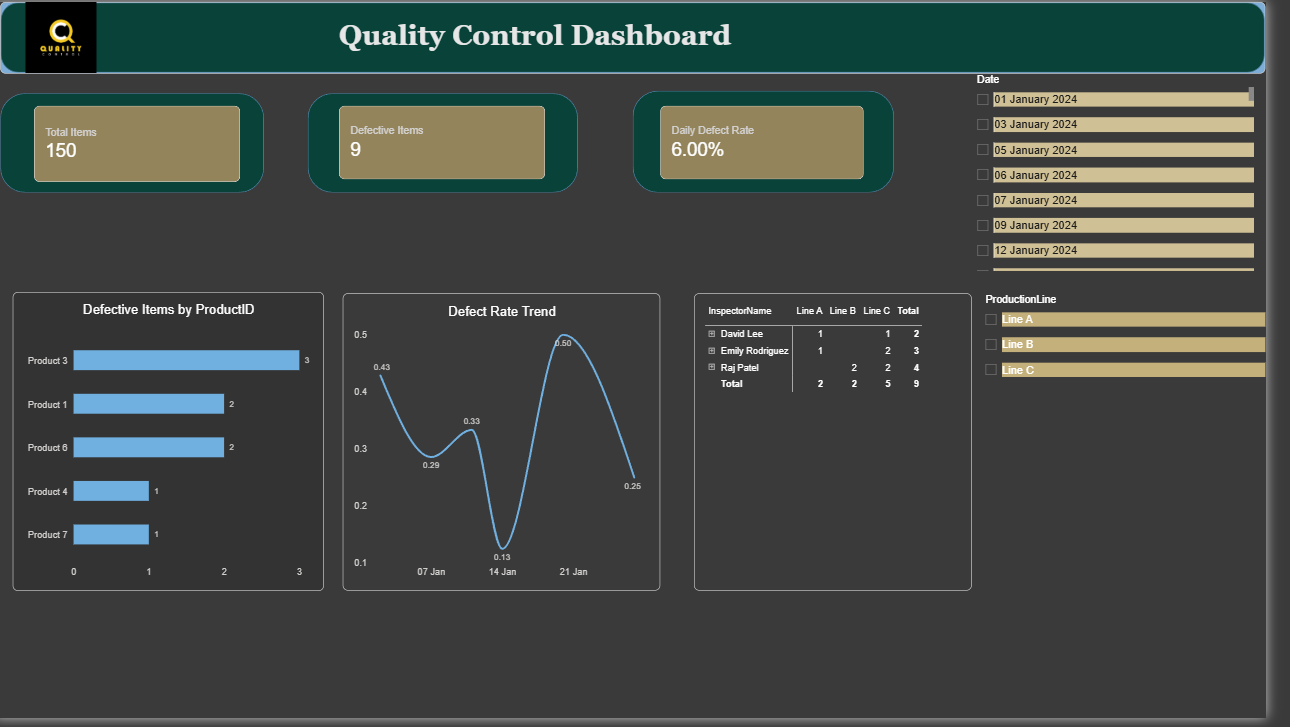

This screenshot's page, from the dashboard's own definition file:
{"tool":"powerbi","page":{"name":"Page 2","canvas":[1920,1080],"ordinal":1},"visuals":[{"type":"textbox","box":[9.6,0,1892.3,107.7],"z":0},{"type":"shape","box":[9.6,0,1909.6,107.7],"z":1000},{"type":"textbox","box":[520.8,26.4,645.3,54.7],"z":2000},{"type":"shape","box":[9.6,138.5,398.1,150],"z":3000},{"type":"shape","box":[964.2,134,394.2,153.8],"z":4000},{"type":"shape","box":[473.6,137.7,407.7,150],"z":5000},{"type":"cardVisual","fields":{"Data":["production_data.Total Items"]},"box":[59.6,155.8,311.5,115.4],"z":6000},{"type":"cardVisual","fields":{"Data":["production_data.Defective Items"]},"box":[520.8,156.6,311.5,111.5],"z":7000},{"type":"cardVisual","fields":{"Data":["production_data.Daily Defect Rate"]},"box":[1005.7,156.6,307.7,111.5],"z":8000},{"type":"slicer","fields":{"Values":["production_data.Date"]},"box":[1475,107.1,426.4,298.1],"z":9000},{"type":"slicer","fields":{"Values":["batches_data.ProductionLine"]},"box":[1488.7,439.6,430.2,449.1],"z":10000},{"type":"clusteredBarChart","fields":{"Category":["production_data.ProductID"],"Y":["production_data.Defective Items"]},"box":[28.3,437.7,469.8,450.9],"z":11000},{"type":"lineChart","title":" Defect Rate Trend","fields":{"Category":["production_data.Date.Variation.Date Hierarchy.Year","production_data.Date.Variation.Date Hierarchy.Day"],"Y":["production_data.Overall Defect Rate"]},"box":[526.4,439.6,479.2,449.1],"z":12000},{"type":"pivotTable","fields":{"Columns":["batches_data.ProductionLine"],"Rows":["batches_data.InspectorName","production_data.BatchID"],"Values":["production_data.Defective Items"]},"box":[1056.6,439.6,418.9,449.1],"z":12001},{"type":"image","box":[28.3,0,145.3,107.5],"z":12002}]}

Visuals, with their boxes in screenshot pixels (x1, y1, x2, y2), scaled from the page's 1920x1080 canvas onto the 1290x727 screenshot:
textbox: (x1=6, y1=0, x2=1278, y2=72)
shape: (x1=6, y1=0, x2=1289, y2=72)
textbox: (x1=350, y1=18, x2=783, y2=55)
shape: (x1=6, y1=93, x2=274, y2=194)
shape: (x1=648, y1=90, x2=913, y2=194)
shape: (x1=318, y1=93, x2=592, y2=194)
cardVisual - production_data.Total Items: (x1=40, y1=105, x2=249, y2=183)
cardVisual - production_data.Defective Items: (x1=350, y1=105, x2=559, y2=180)
cardVisual - production_data.Daily Defect Rate: (x1=676, y1=105, x2=882, y2=180)
slicer - production_data.Date: (x1=991, y1=72, x2=1278, y2=273)
slicer - batches_data.ProductionLine: (x1=1000, y1=296, x2=1289, y2=598)
clusteredBarChart - production_data.ProductID x production_data.Defective Items: (x1=19, y1=295, x2=335, y2=598)
" Defect Rate Trend" lineChart: (x1=354, y1=296, x2=676, y2=598)
pivotTable - batches_data.ProductionLine x batches_data.InspectorName: (x1=710, y1=296, x2=991, y2=598)
image: (x1=19, y1=0, x2=117, y2=72)
